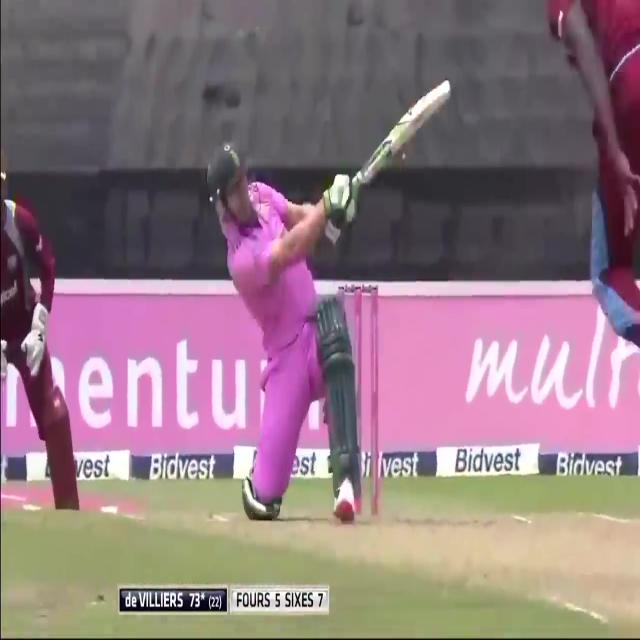Ball: (199, 71, 373, 517)
Fielder: (523, 0, 639, 348), (2, 155, 92, 538)
